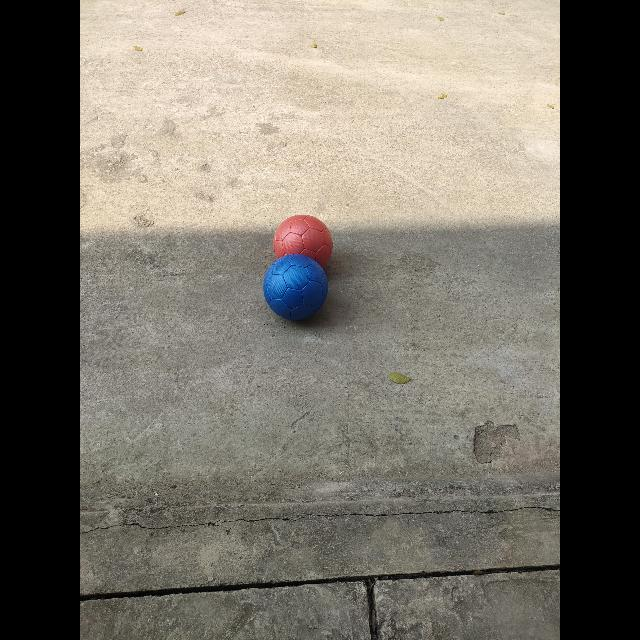B: (262, 255, 329, 320)
R: (274, 215, 332, 266)
